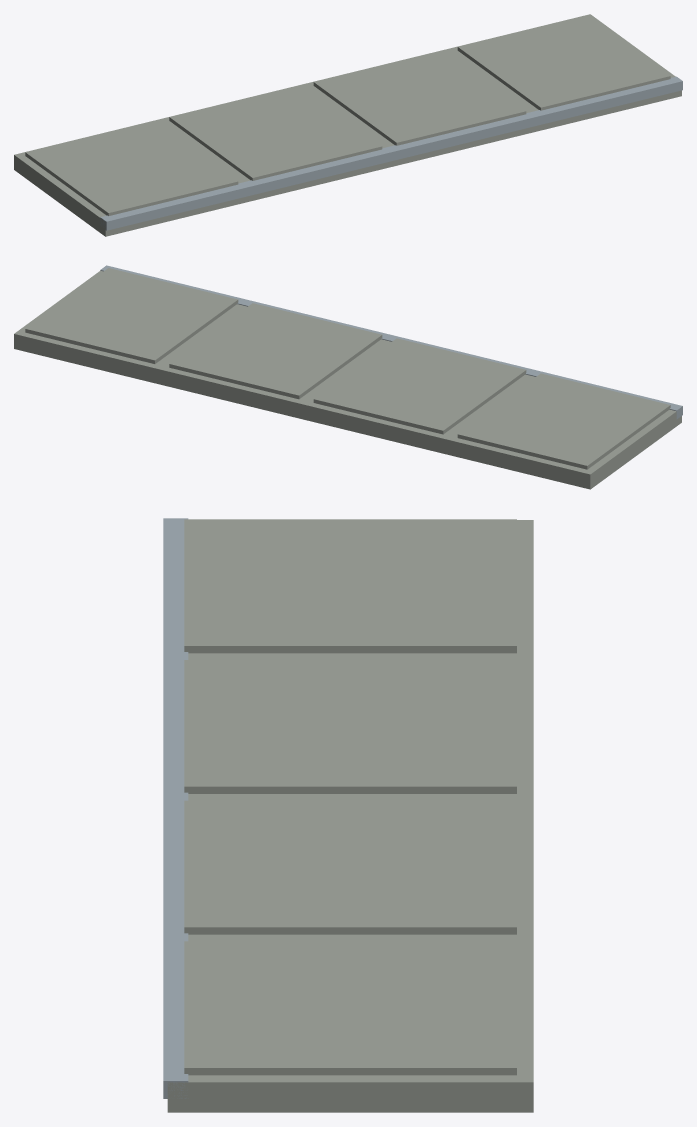
Rendered from sidewalk.gltf.
3 renders of one model, top to bottom at view 1: azimuth 30°, elevation 25°; view 2: azimuth 150°, elevation 25°; view 3: azimuth 270°, elevation 25°, orthographic. The views are drawn at different scales.
Parts seen in each view (by area): view 1: sidewalk; view 2: sidewalk; view 3: sidewalk.
Boxes of the visible parts, bbox=[...] form: sidewalk: bbox=[14, 14, 682, 236]; sidewalk: bbox=[14, 265, 682, 489]; sidewalk: bbox=[163, 518, 533, 1112].
Bounding box in the file's own units: 8 × 0.25 × 2.23.
1 material, 1 textured.
